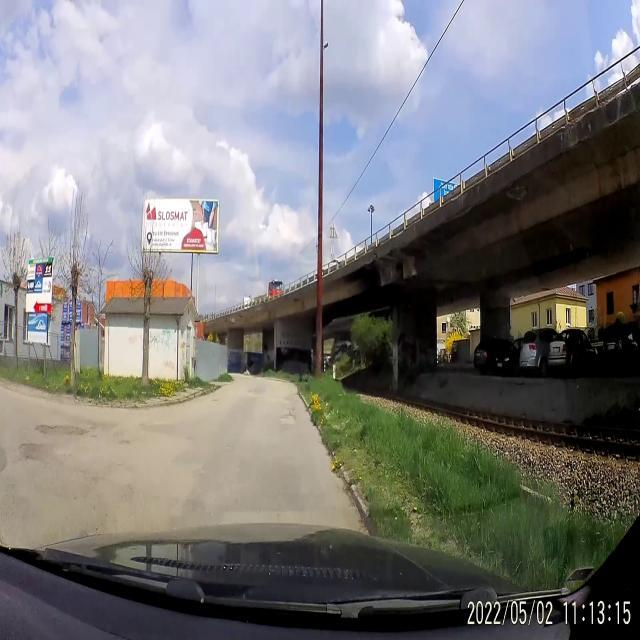Pothole: (18, 431, 64, 485), (36, 420, 86, 442), (244, 382, 272, 410), (278, 402, 304, 430), (206, 394, 228, 412)
